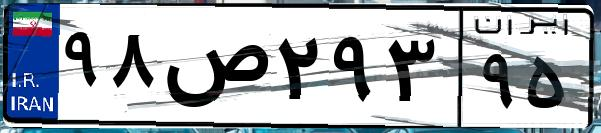2: (270, 28, 330, 110)
3: (385, 28, 445, 110)
5: (525, 38, 570, 115)
8: (110, 28, 158, 98)
9: (330, 28, 385, 110), (57, 26, 110, 100), (475, 38, 525, 113)
ص: (158, 20, 270, 120)
